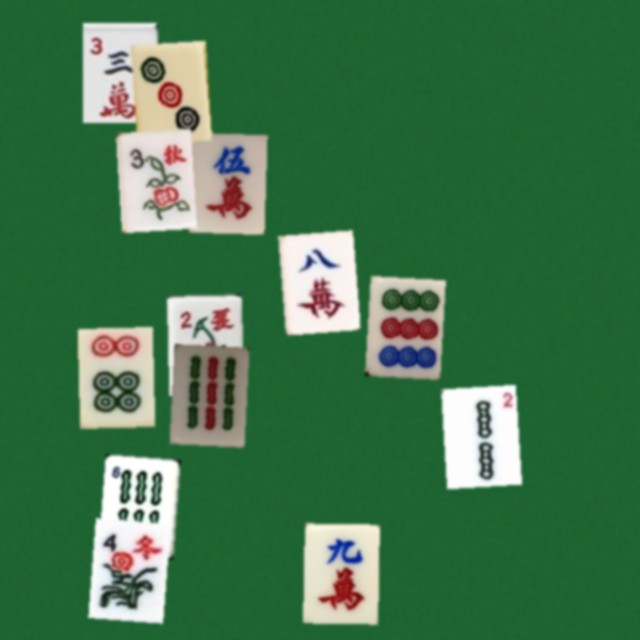tile: (82, 22, 157, 122), (440, 384, 515, 484), (278, 230, 353, 330), (303, 523, 378, 623), (166, 294, 241, 394), (169, 344, 244, 444), (77, 327, 152, 427), (98, 454, 173, 554), (189, 132, 264, 232), (365, 275, 440, 375), (130, 40, 205, 140), (88, 518, 163, 618), (115, 128, 190, 228)
